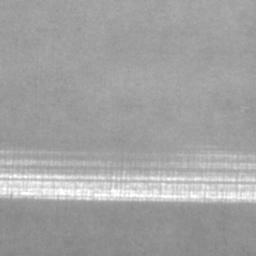Bright scratch: (0, 172, 256, 204)
